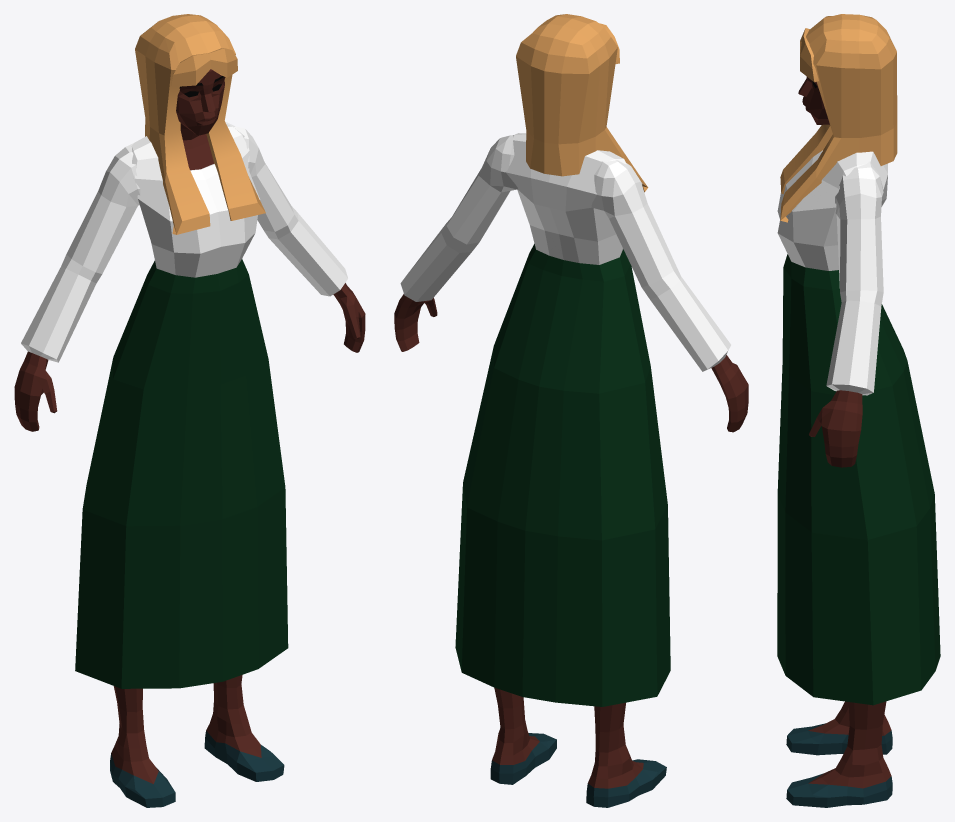
File: Female_05.FBX
3 views of the same model, side by side, from view 1: azimuth 30°, elevation 25°; view 2: azimuth 150°, elevation 25°; view 3: azimuth 270°, elevation 25° (orthographic).
Parts seen in each view (by area): view 1: Female_05; view 2: Female_05; view 3: Female_05.
Boxes of the visible parts, x1,y1,x2,y2 form: Female_05: [14, 14, 365, 807]; Female_05: [394, 14, 748, 807]; Female_05: [777, 14, 940, 807].
Size of the model in its own units: 0.8204 by 1.72 by 0.3384.
1 material, 1 textured.
